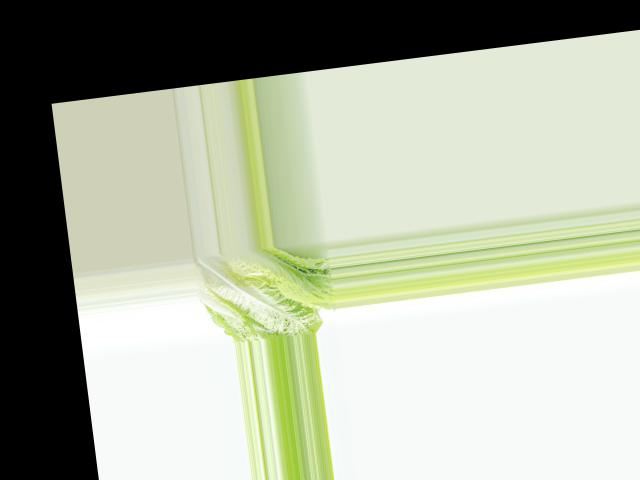lettuce: (193, 240, 340, 346)
